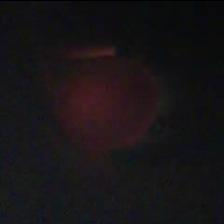fertile: (54, 52, 167, 152)
